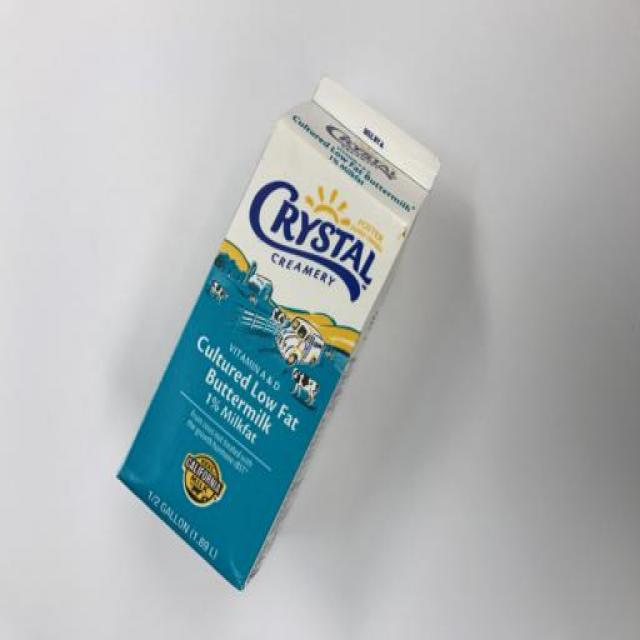paper: (50, 51, 518, 640)
